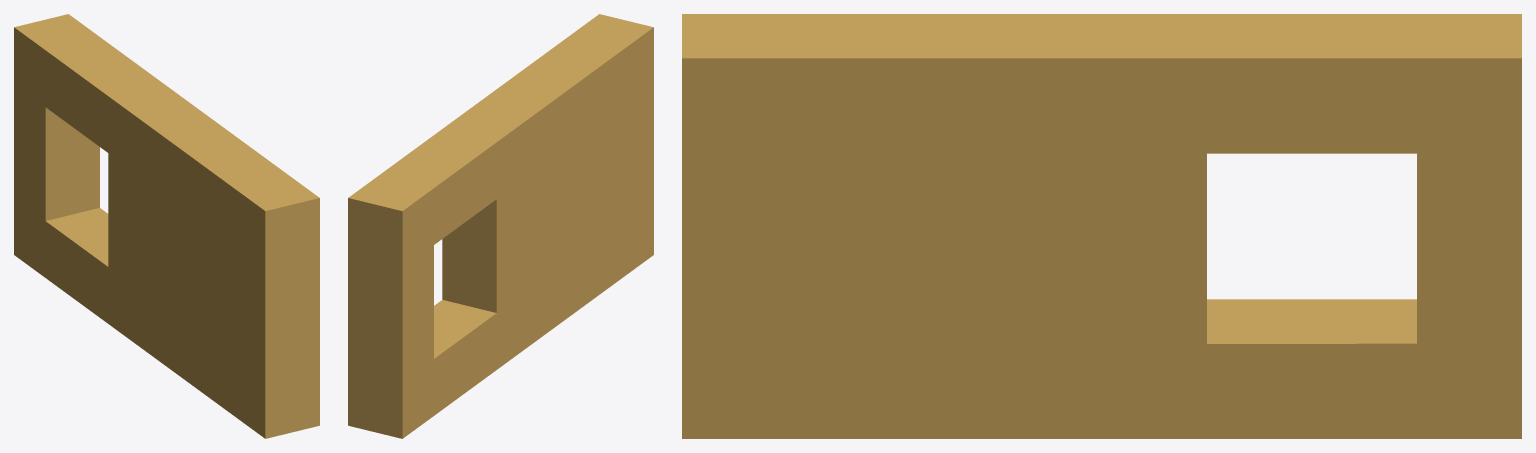
Rendered from pared2b.obj.
3 renders of one model, left to right at view 1: azimuth 30°, elevation 25°; view 2: azimuth 150°, elevation 25°; view 3: azimuth 270°, elevation 25°, orthographic. The views are drawn at different scales.
Visible parts, largest first — view 1: Wall.051; view 2: Wall.051; view 3: Wall.051.
Boxes of the visible parts, x1,y1,x2,y2 form: Wall.051: (14, 14, 319, 438); Wall.051: (348, 14, 653, 438); Wall.051: (682, 14, 1521, 438).
Bounding box in the file's own units: 1 × 4 × 8.
2 materials, 2 textured.
